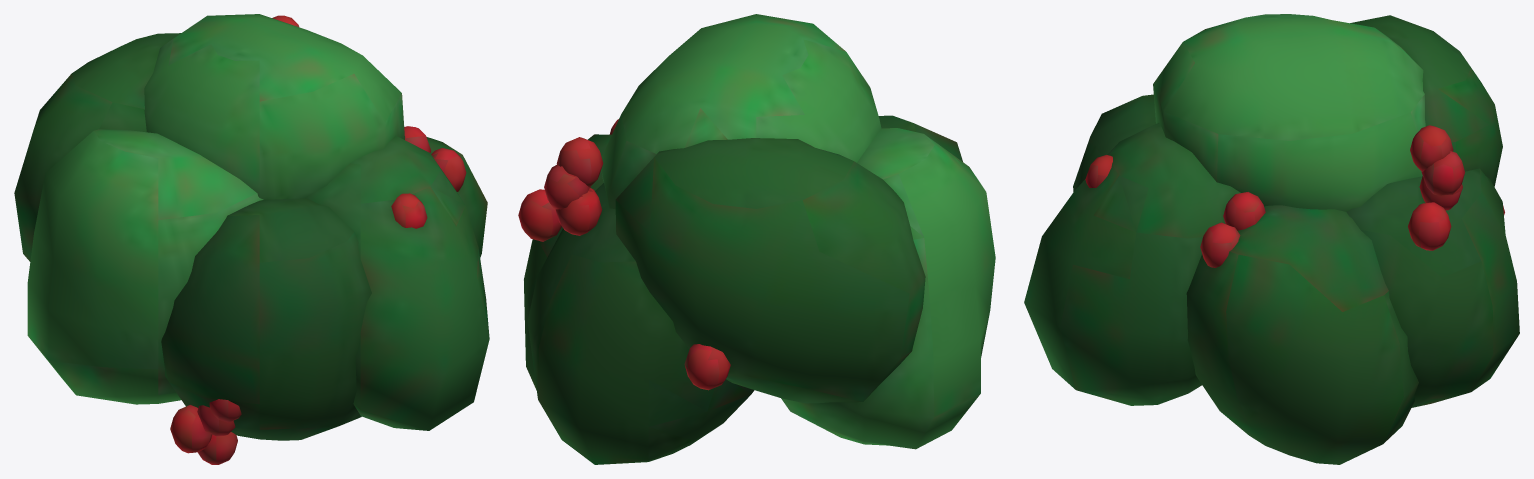
Rendered from crop_coffee_bean.glb.
3 views of the same model, side by side, from view 1: azimuth 30°, elevation 25°; view 2: azimuth 150°, elevation 25°; view 3: azimuth 270°, elevation 25° (orthographic). The views are drawn at different scales.
Parts seen in each view (by area): view 1: crop_coffee_bean, fruit; view 2: crop_coffee_bean, fruit; view 3: crop_coffee_bean, fruit.
Boxes of the visible parts, bbox=[...] form: crop_coffee_bean: bbox=[14, 14, 489, 440]; fruit: bbox=[170, 15, 466, 464]; crop_coffee_bean: bbox=[524, 14, 995, 464]; fruit: bbox=[518, 119, 730, 390]; crop_coffee_bean: bbox=[1024, 14, 1519, 464]; fruit: bbox=[1085, 125, 1504, 267].
Bounding box in the file's own units: 0.2657 × 0.236 × 0.277.
1 material, 1 textured.
